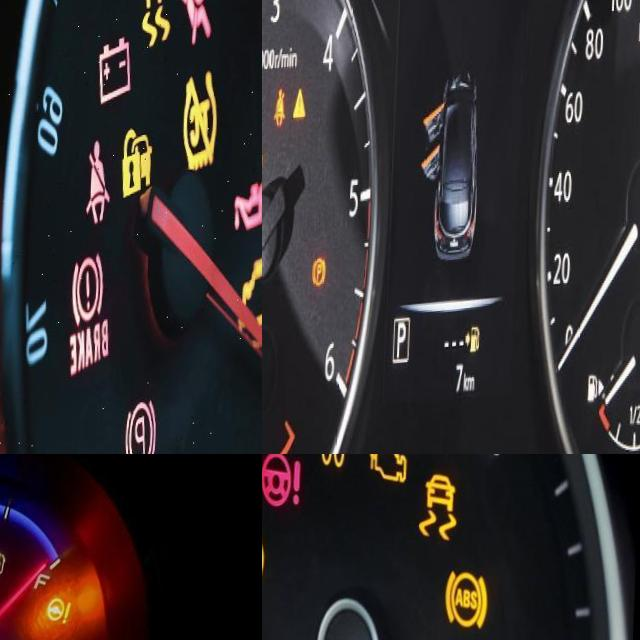Electronic Power Steering: (44, 605, 75, 635)
Electronic Power Steering Warning: (262, 454, 307, 520)
Seat Belt: (270, 90, 290, 134)
